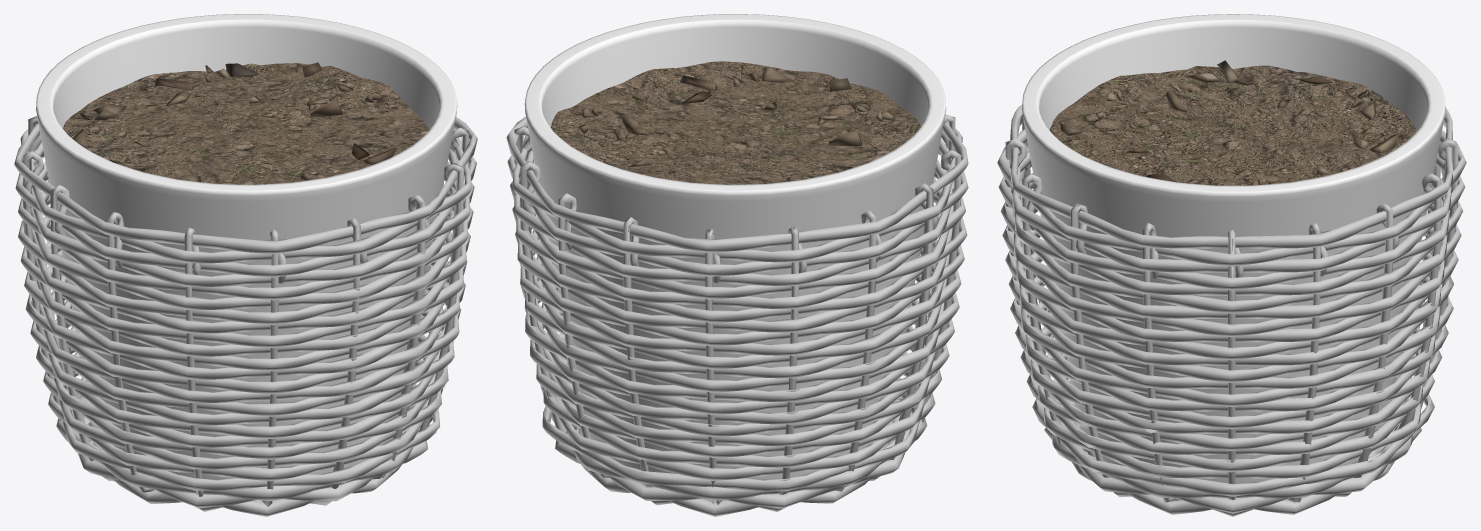
The picture shows the model from 3 angles, left to right: view 1: azimuth 30°, elevation 25°; view 2: azimuth 150°, elevation 25°; view 3: azimuth 270°, elevation 25°; orthographic projection.
Parts seen in each view (by area): view 1: QH-花盆1; view 2: QH-花盆1; view 3: QH-花盆1.
Boxes of the visible parts, <box> form: QH-花盆1: <box>14,14,477,516</box>; QH-花盆1: <box>506,14,968,516</box>; QH-花盆1: <box>997,14,1466,516</box>.
Size of the model in its own units: 0.2131 by 0.2132 by 0.1798.
